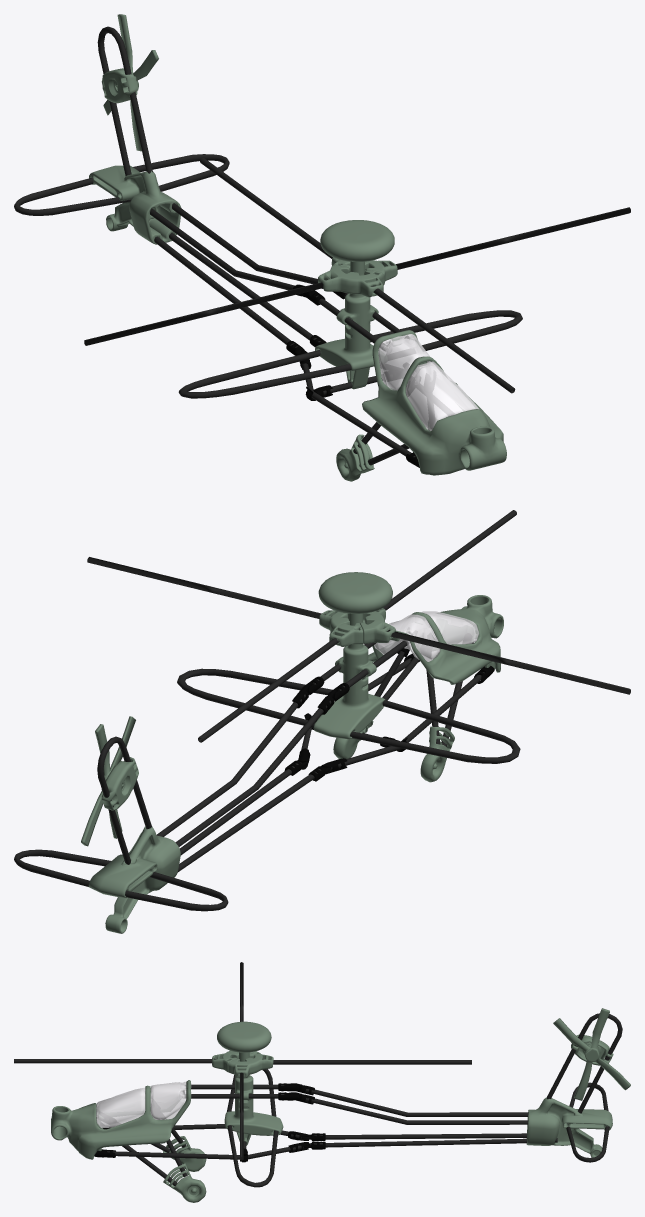
Rendered from Chopper.glb.
3 renders of one model, top to bottom at view 1: azimuth 30°, elevation 25°; view 2: azimuth 150°, elevation 25°; view 3: azimuth 270°, elevation 25°, orthographic. The views are drawn at different scales.
Visible parts, largest first — view 1: Front_Cover, Cylinder.020, Zbrush Too Blender 1.253, Glass_Front, Zbrush Too Blender.238, Cylinder.013, Zbrush Too Blender.239, Cylinder.009, Cylinder.012, Cylinder.011, Cylinder, Cylinder.004 (+5 smaller); view 2: Cylinder.020, Zbrush Too Blender 1.253, Zbrush Too Blender.238, Front_Cover, Glass_Front, Zbrush Too Blender.239, Cylinder.013, Cylinder.012, Cylinder.005, Cylinder.009, Cylinder.011, Cylinder.004 (+5 smaller); view 3: Front_Cover, Cylinder.020, Zbrush Too Blender 1.253, Zbrush Too Blender.238, Glass_Front, Zbrush Too Blender.239, Cylinder.005, Cylinder.004, Cylinder, Cylinder.007, Cylinder.009, Wheel_Left (+6 smaller).
Boxes of the visible parts, x1=… form: Front_Cover: x1=362, y1=330, x2=506, y2=475; Cylinder.020: x1=84, y1=158, x2=630, y2=393; Zbrush Too Blender 1.253: x1=315, y1=220, x2=394, y2=389; Glass_Front: x1=378, y1=334, x2=479, y2=430; Zbrush Too Blender.238: x1=89, y1=165, x2=181, y2=244; Cylinder.013: x1=178, y1=350, x2=351, y2=398; Zbrush Too Blender.239: x1=101, y1=14, x2=158, y2=151; Cylinder.009: x1=97, y1=26, x2=152, y2=175; Cylinder.012: x1=370, y1=310, x2=522, y2=350; Cylinder.011: x1=14, y1=177, x2=131, y2=215; Cylinder: x1=169, y1=233, x2=320, y2=342; Cylinder.004: x1=172, y1=203, x2=317, y2=284; Cylinder.020: x1=87, y1=510, x2=630, y2=742; Zbrush Too Blender 1.253: x1=313, y1=572, x2=392, y2=740; Zbrush Too Blender.238: x1=88, y1=826, x2=180, y2=933; Front_Cover: x1=368, y1=595, x2=503, y2=684; Glass_Front: x1=374, y1=611, x2=479, y2=661; Zbrush Too Blender.239: x1=81, y1=716, x2=138, y2=846; Cylinder.013: x1=350, y1=700, x2=520, y2=763; Cylinder.012: x1=177, y1=668, x2=332, y2=728; Cylinder.005: x1=175, y1=700, x2=331, y2=846; Cylinder.009: x1=97, y1=736, x2=151, y2=864; Cylinder.011: x1=125, y1=872, x2=228, y2=911; Cylinder.004: x1=156, y1=694, x2=305, y2=836; Front_Cover: x1=51, y1=1080, x2=191, y2=1159; Cylinder.020: x1=14, y1=962, x2=471, y2=1160; Zbrush Too Blender 1.253: x1=217, y1=1021, x2=283, y2=1145; Zbrush Too Blender.238: x1=526, y1=1097, x2=612, y2=1157; Glass_Front: x1=96, y1=1081, x2=191, y2=1128; Zbrush Too Blender.239: x1=553, y1=1008, x2=630, y2=1100; Cylinder.005: x1=305, y1=1089, x2=528, y2=1116; Cylinder.004: x1=305, y1=1098, x2=528, y2=1124; Cylinder: x1=310, y1=1138, x2=557, y2=1147; Cylinder.007: x1=314, y1=1133, x2=526, y2=1139; Cylinder.009: x1=546, y1=1013, x2=622, y2=1113; Wheel_Left: x1=163, y1=1163, x2=206, y2=1202.
Size of the model in its own units: 297 by 130 by 399.
